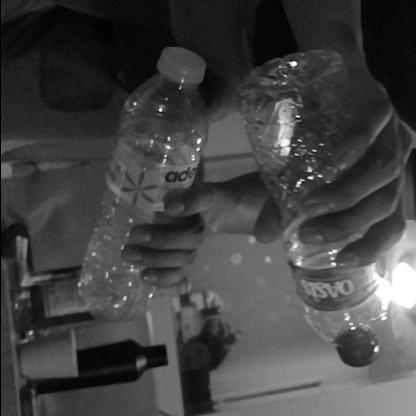plastic_bottles: (236, 45, 389, 367), (71, 42, 207, 326)
